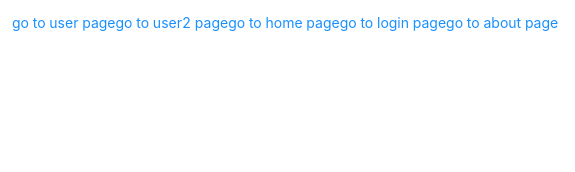
it: AuthRouter, PrivateRoute and PublicRoute › should be redirected to "kickTo" path of PrivateRoute if user isn't logged in
Step 1. Click the link "go to user page" → (64, 22), box [12, 14, 116, 31]
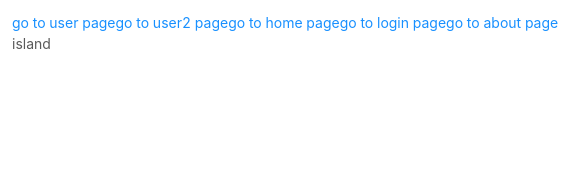
Check: the text "island" is shown, box [12, 35, 51, 52]
